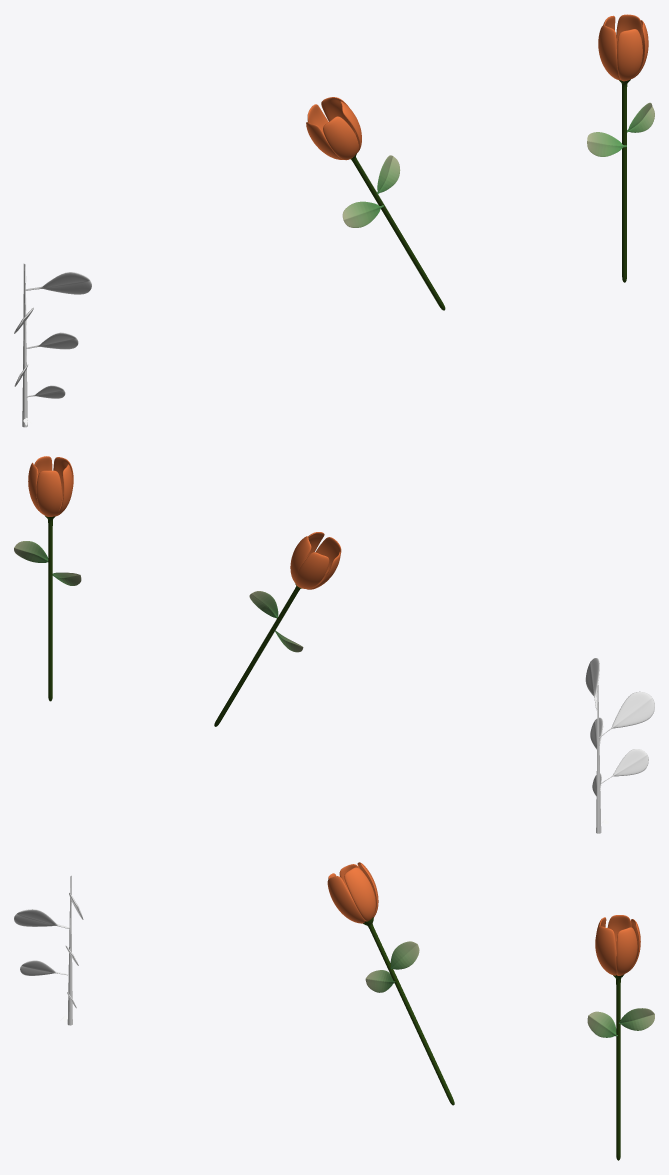
The model's file is grow_plants.glb.
3 views of the same model, one above another, from view 1: azimuth 30°, elevation 25°; view 2: azimuth 150°, elevation 25°; view 3: azimuth 330°, elevation 25° (orthographic). The views are drawn at different scales.
Parts seen in each view (by area): view 1: 郁金香.002, 郁金香.001, leaves.002; view 2: 郁金香.001, 郁金香.002, leaves.002; view 3: 郁金香.002, 郁金香.001, leaves.002.
Part boxes in pixels (x1,y1,x2,y2): 郁金香.002: (306,97,445,310); 郁金香.001: (587,14,654,282); leaves.002: (14,263,91,427); 郁金香.001: (14,456,81,701); 郁金香.002: (214,532,341,726); leaves.002: (585,658,654,833); 郁金香.002: (327,862,454,1105); 郁金香.001: (587,915,654,1160); leaves.002: (14,875,83,1025).
Bounding box in the file's own units: 0.6237 × 0.232 × 0.0665.
4 materials, 1 textured.
